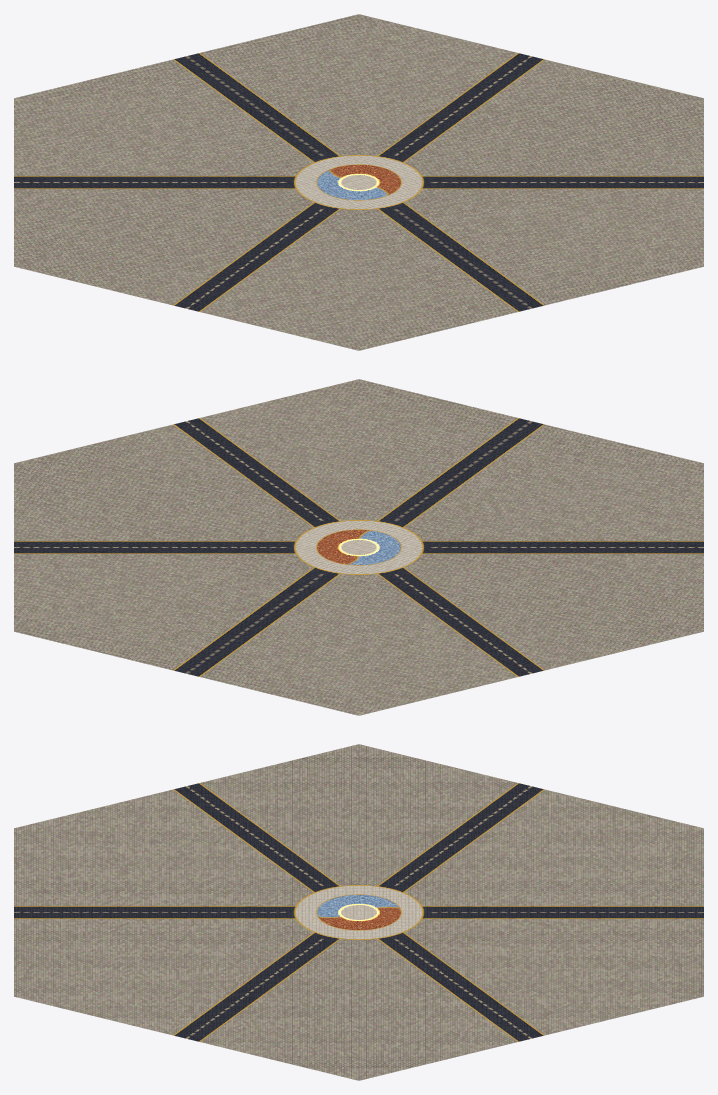
File: hub2_ground.glb
3 renders of one model, top to bottom at view 1: azimuth 30°, elevation 25°; view 2: azimuth 150°, elevation 25°; view 3: azimuth 270°, elevation 25°, orthographic.
Parts seen in each view (by area): view 1: hubground; view 2: hubground; view 3: hubground.
Boxes of the visible parts, x1=… form: hubground: x1=14, y1=14, x2=703, y2=350; hubground: x1=14, y1=379, x2=703, y2=715; hubground: x1=14, y1=744, x2=703, y2=1080.
Bounding box in the file's own units: 323 × 0 × 280.
1 material, 1 textured.
